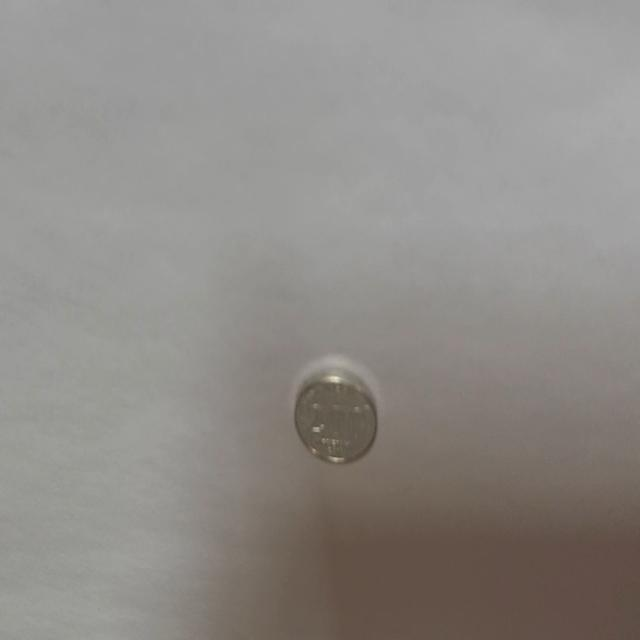dua ratus rupiah: (292, 362, 378, 467)
